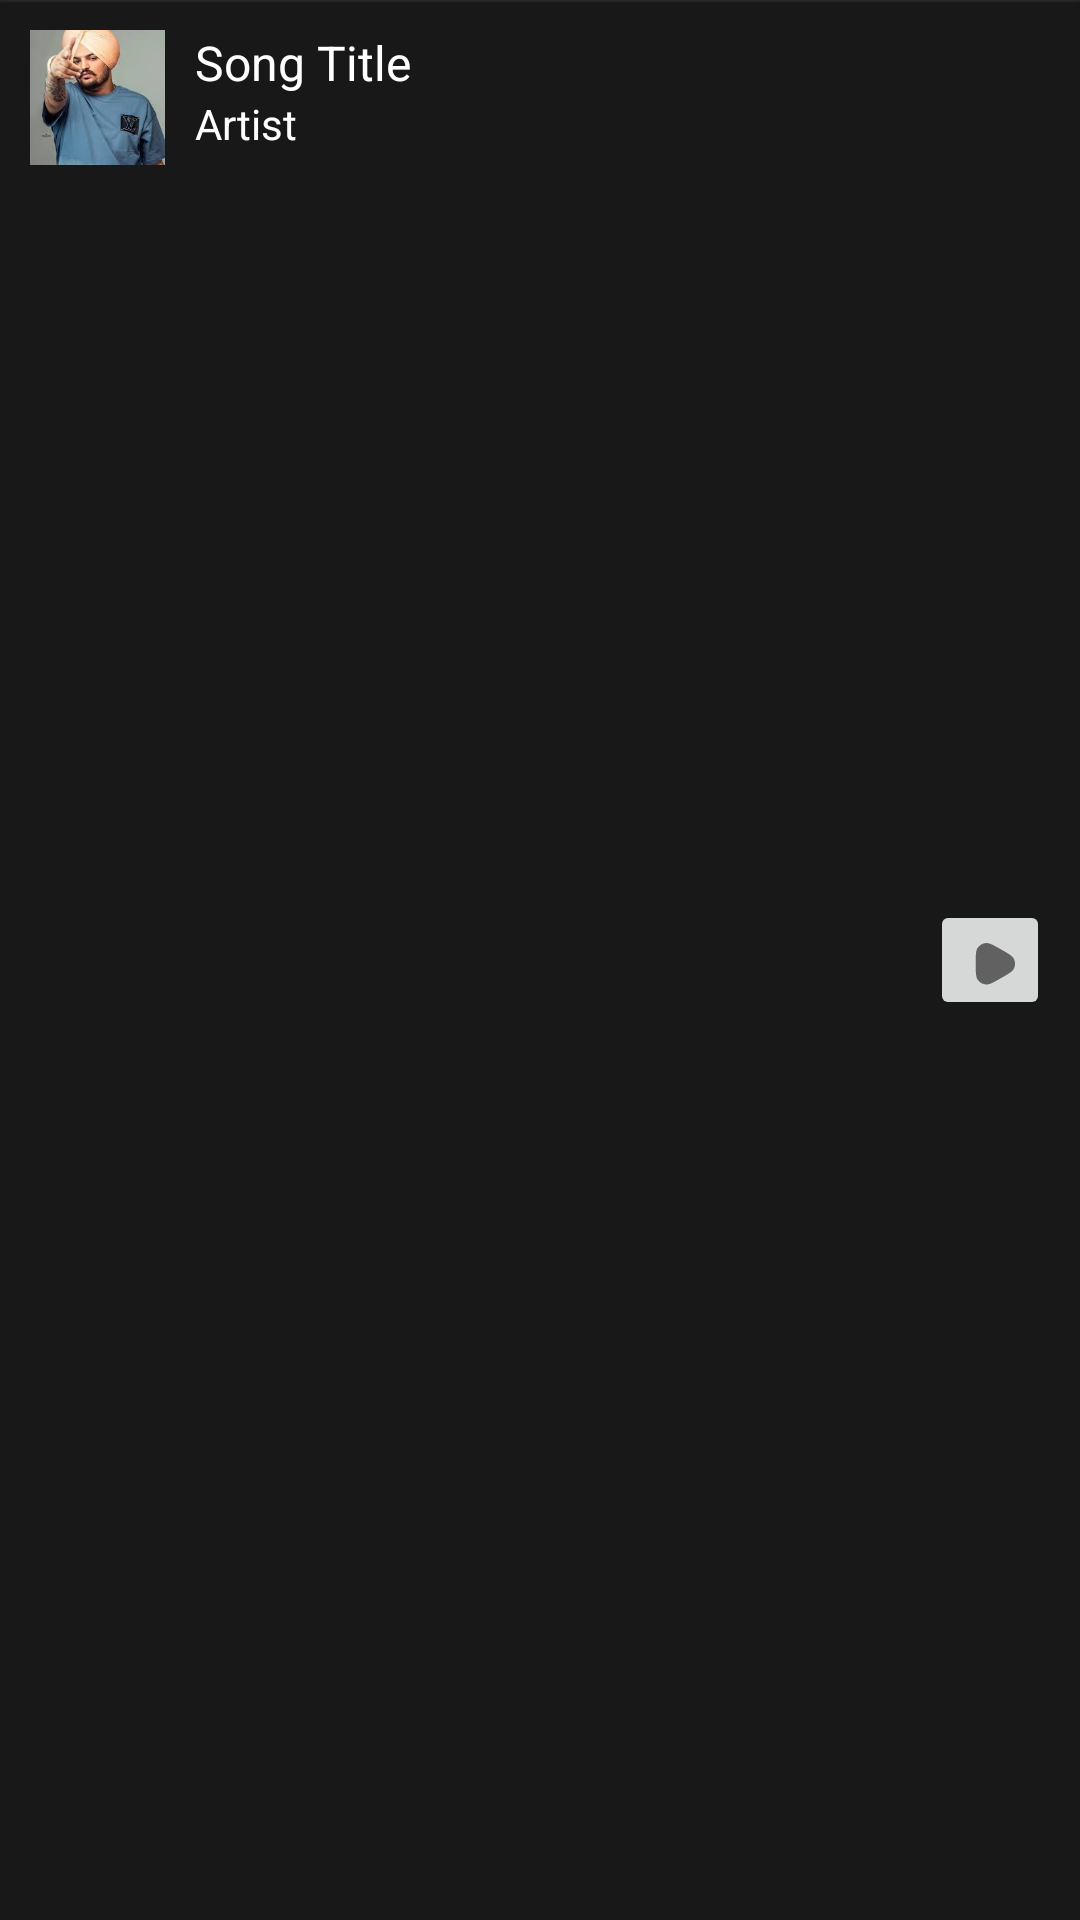

Named icons in this screenshot (1080px×1920px) and their centers, (x=x, y=y):
Play Pause: (x=990, y=960)
